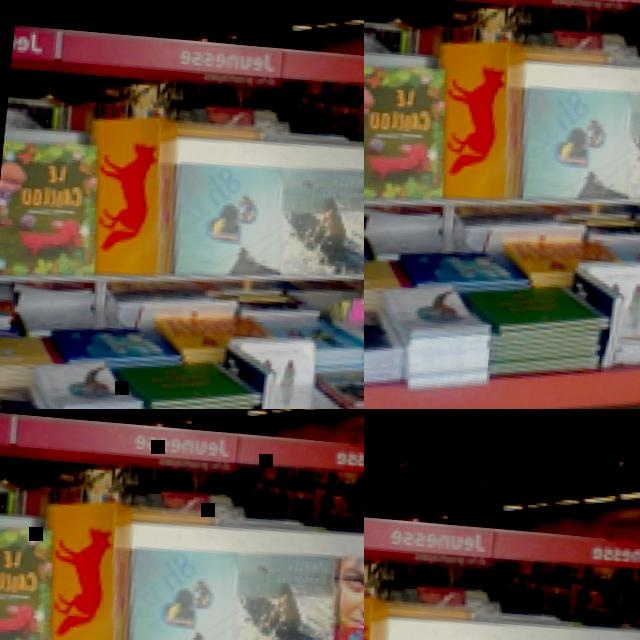Hardhat: (415, 29, 556, 130), (430, 0, 564, 44), (364, 24, 400, 116), (364, 0, 399, 27)
Person: (367, 36, 640, 409), (364, 20, 577, 409), (426, 0, 640, 66), (364, 0, 596, 53)
Safety Vest: (364, 74, 551, 373), (488, 97, 634, 359)
machinery: (0, 247, 364, 409), (0, 218, 133, 409)
